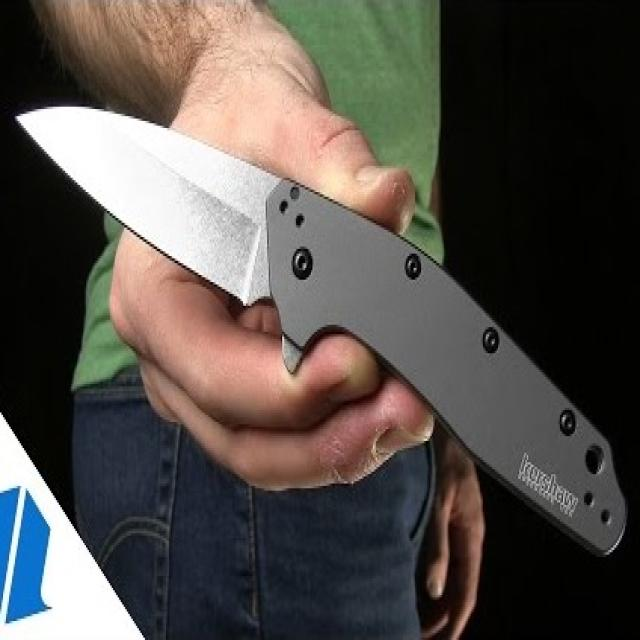knife: (16, 100, 627, 567)
